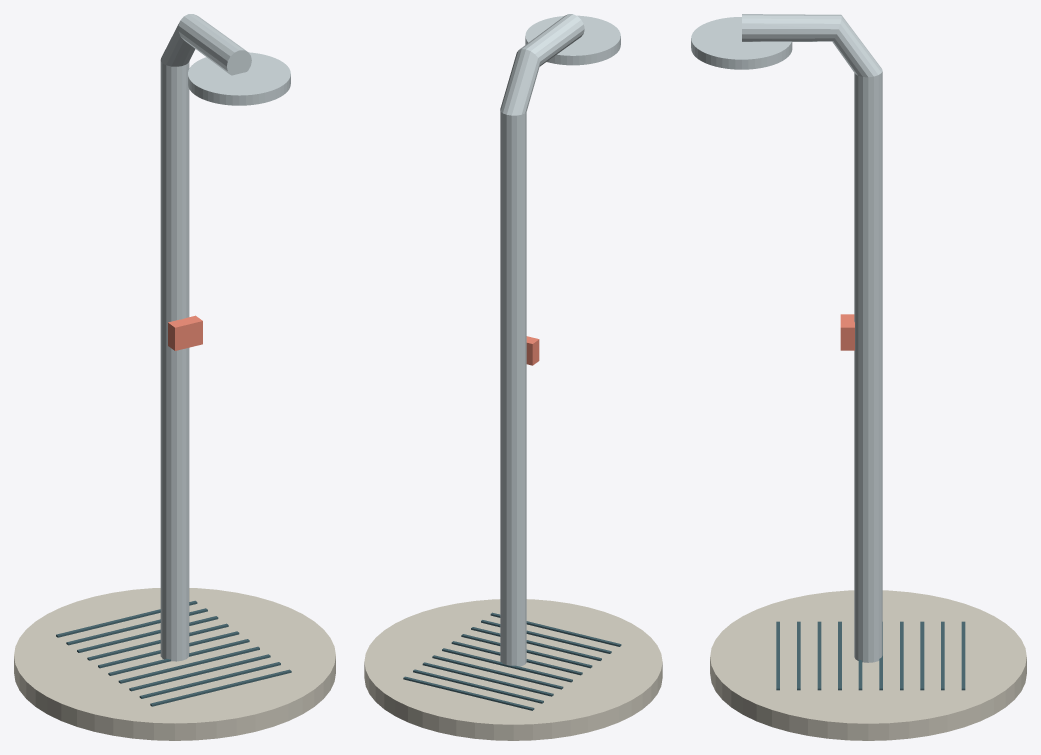
File: waterpark-and-pool-operations-waterpark-and-pool-opera-8979f3fb__28974.glb
3 renders of one model, left to right at view 1: azimuth 30°, elevation 25°; view 2: azimuth 150°, elevation 25°; view 3: azimuth 270°, elevation 25°, orthographic. The views are drawn at different scales.
Parts seen in each view (by area): view 1: waterpark-and-pool-operations-outdoor-shower; view 2: waterpark-and-pool-operations-outdoor-shower; view 3: waterpark-and-pool-operations-outdoor-shower.
Part boxes in pixels (box(x1,y1,x2,y2)): waterpark-and-pool-operations-outdoor-shower: box(14, 14, 335, 740); waterpark-and-pool-operations-outdoor-shower: box(364, 14, 662, 740); waterpark-and-pool-operations-outdoor-shower: box(691, 14, 1026, 740).
Bounding box in the file's own units: 1 × 2.29 × 1.06.
